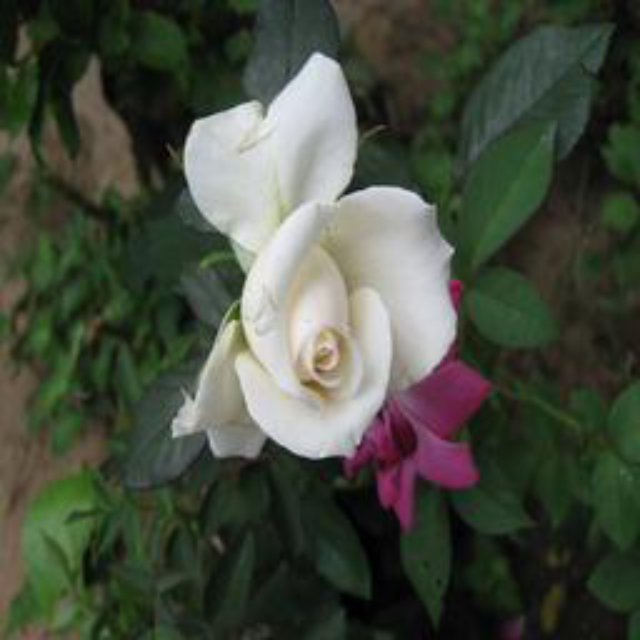rose: (169, 51, 461, 488)
